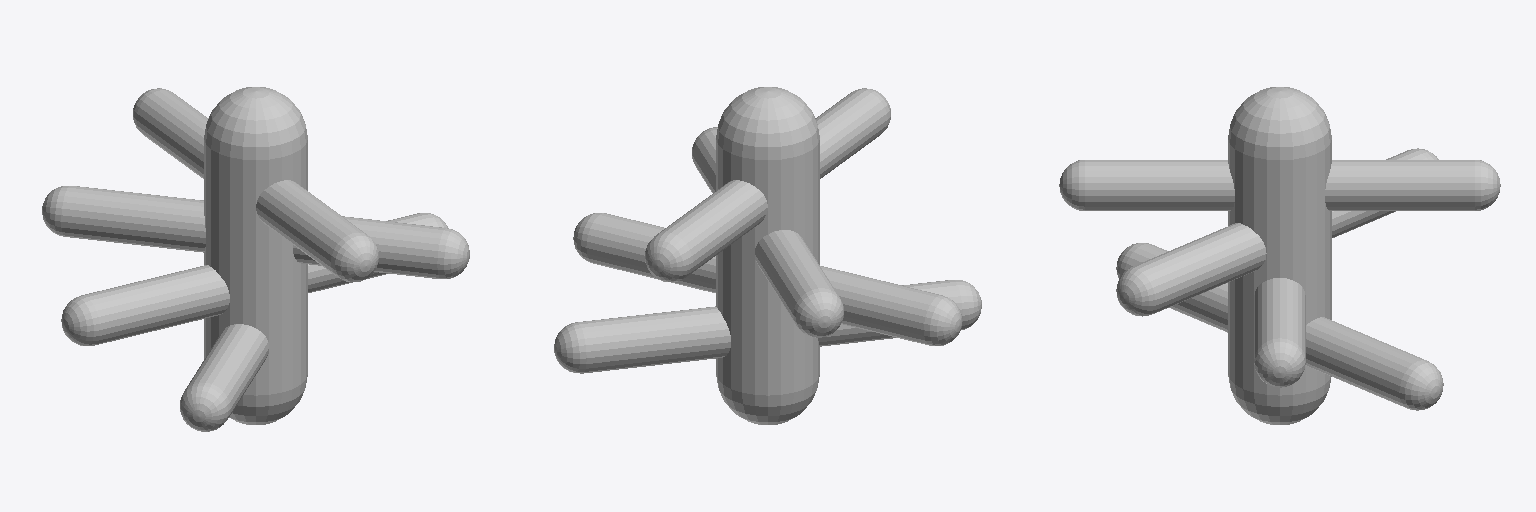
File: cactus.obj
3 views of the same model, side by side, from view 1: azimuth 30°, elevation 25°; view 2: azimuth 150°, elevation 25°; view 3: azimuth 270°, elevation 25° (orthographic).
Visible parts, largest first — view 1: Mesh1 Group1 Model; view 2: Mesh1 Group1 Model; view 3: Mesh1 Group1 Model.
Part boxes in pixels (left/top/right/bottom): Mesh1 Group1 Model: left=42, top=87, right=469, bottom=431; Mesh1 Group1 Model: left=554, top=87, right=981, bottom=424; Mesh1 Group1 Model: left=1059, top=87, right=1500, bottom=424.
Bounding box in the file's own units: 85 × 70 × 85.